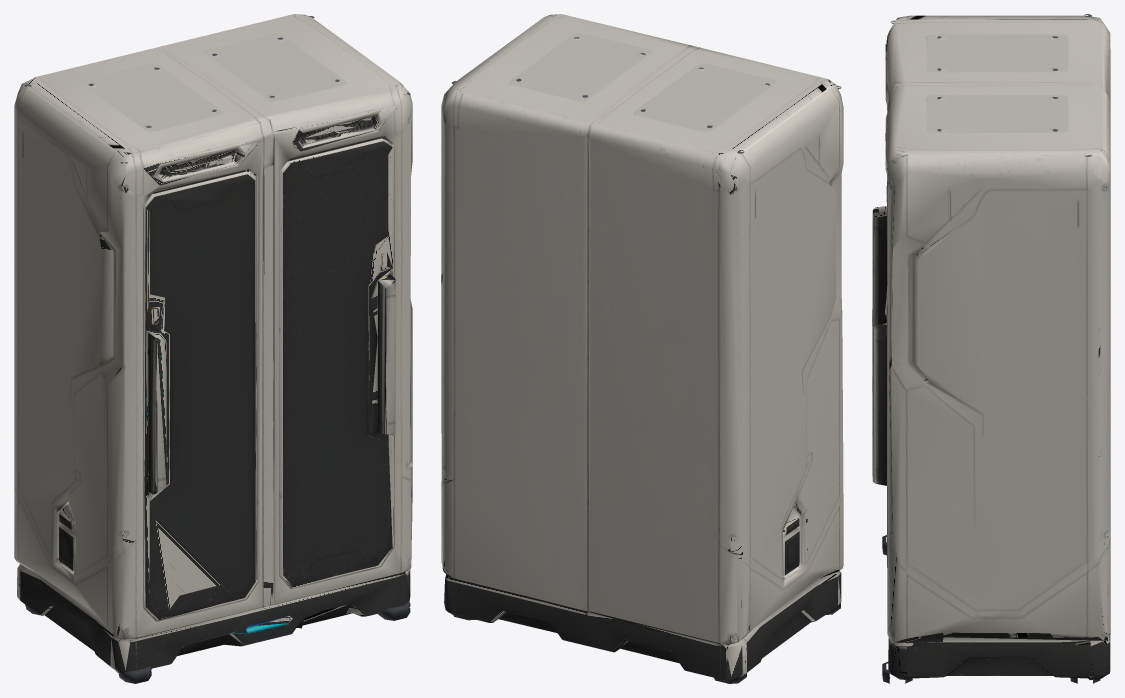
Rendered from dual-suit-locker.glb.
3 renders of one model, left to right at view 1: azimuth 30°, elevation 25°; view 2: azimuth 150°, elevation 25°; view 3: azimuth 270°, elevation 25°, orthographic.
Visible parts, largest first — view 1: dual-suit-locker (×3); view 2: dual-suit-locker (×2); view 3: dual-suit-locker (×2).
Part boxes in pixels (x1,y1,x2,y2): dual-suit-locker (×3): (14, 14, 412, 683); dual-suit-locker (×2): (441, 14, 843, 682); dual-suit-locker (×2): (872, 15, 1110, 679).
Size of the model in its own units: 0.6063 by 1 by 0.4087.
Materials: 6 (1 with a texture image).
